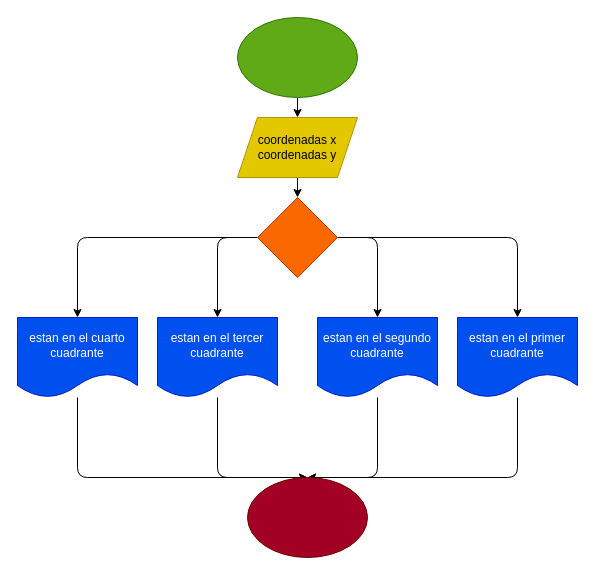
The diagram is 595 pixels wide and 575 high, and some of its shapes have lost their labels. Here are the shapes that lost their labels. From the top down, the centre of each, then its label:
(x=297, y=57): Inicio.
(x=297, y=237): x>=0 y>=0
(x=307, y=517): Fin
